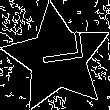L_W: (30, 39, 85, 77)
